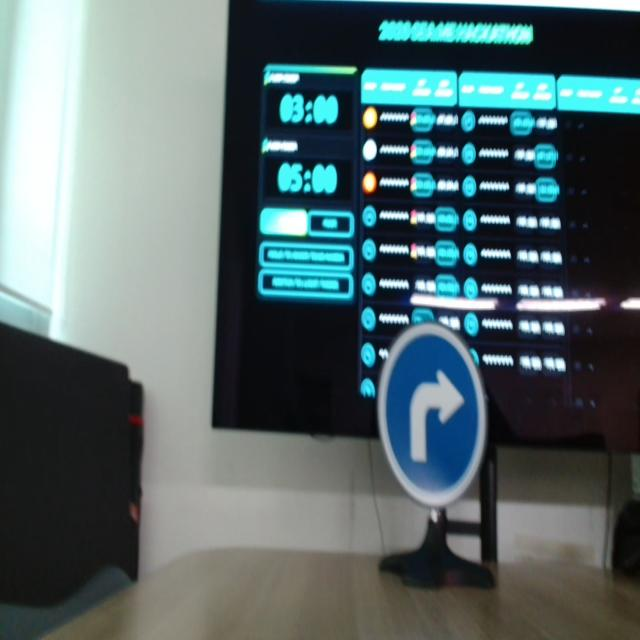right_dierection: (381, 318, 490, 528)
